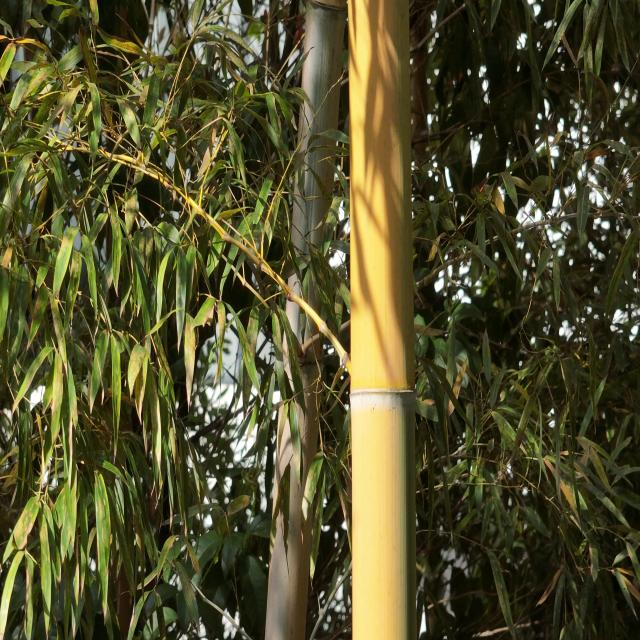Bamboo-shoots: (348, 0, 415, 640)
